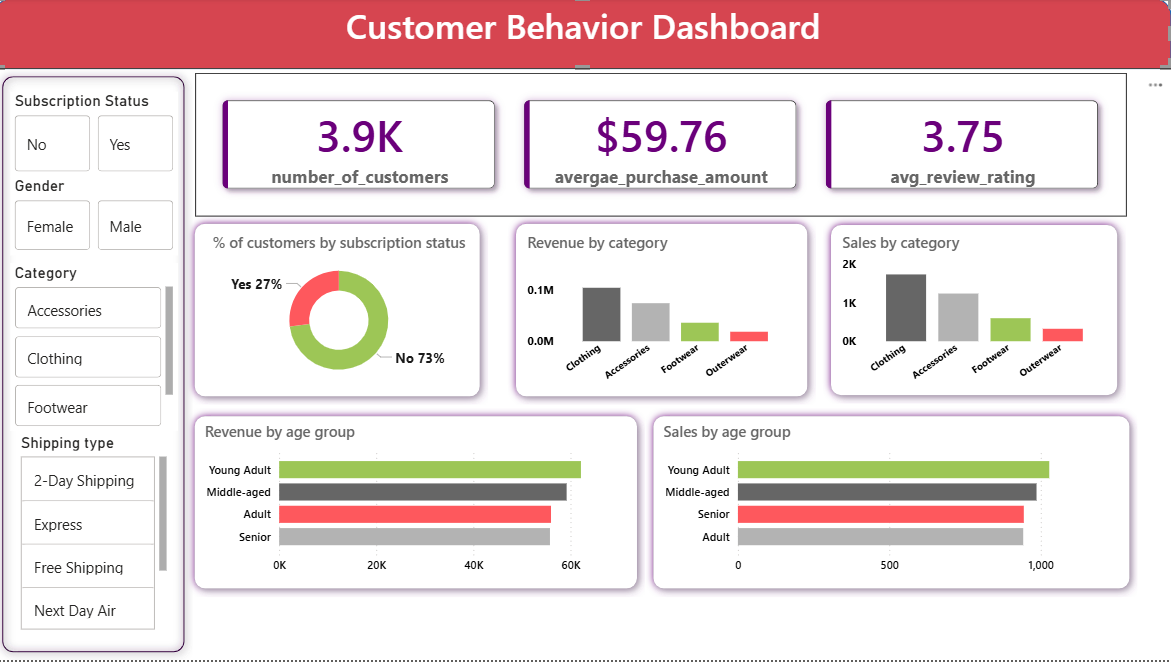

This screenshot's page, from the dashboard's own definition file:
{"tool":"powerbi","page":{"name":"Page 1","canvas":[1280,720],"ordinal":0},"visuals":[{"type":"cardVisual","fields":{"Data":["customer_behavior customer.number_of_customers","customer_behavior customer.avergae_purchase_amount","customer_behavior customer.avg_review_rating"]},"box":[218.8,81.5,1012.5,156.3],"z":0},{"type":"shape","box":[0,0,1280.3,77.5],"z":1000},{"type":"textbox","box":[146.8,0,988,101.5],"z":2000},{"type":"shape","box":[209.9,236.4,328,205.8],"z":3000},{"type":"donutChart","title":"% of customers by  subscription status","fields":{"Category":["customer_behavior customer.subscription_status"],"Y":["CountNonNull(customer_behavior customer.customer_id)"]},"box":[232.4,254.2,285.4,171.2],"z":4000},{"type":"shape","box":[558.5,236.4,334.8,205.8],"z":5000},{"type":"shape","box":[901.5,237.8,329.3,203.1],"z":6000},{"type":"clusteredColumnChart","title":"Revenue by category","fields":{"Y":["Sum(customer_behavior customer.purchase_amount)"],"Category":["customer_behavior customer.category"]},"box":[574.9,254.2,294.9,171.2],"z":7000},{"type":"clusteredColumnChart","title":"Sales by category","fields":{"Y":["CountNonNull(customer_behavior customer.customer_id)"],"Category":["customer_behavior customer.category"]},"box":[917.4,254.2,296.3,171.2],"z":8000},{"type":"shape","box":[0,76.1,216.1,644.2],"z":9000},{"type":"advancedSlicerVisual","fields":{"Values":["customer_behavior customer.subscription_status"]},"box":[17.7,101.9,182.1,92.4],"z":10000},{"type":"advancedSlicerVisual","fields":{"Values":["customer_behavior customer.gender"]},"box":[17.7,194.4,182.1,85.6],"z":11000},{"type":"advancedSlicerVisual","fields":{"Values":["customer_behavior customer.category"]},"box":[17.7,288.1,182.1,182.1],"z":12000},{"type":"advancedSlicerVisual","fields":{"Values":["customer_behavior customer.shipping_type"]},"box":[24.5,473,168.5,218.8],"z":13000},{"type":"shape","box":[209.3,445.8,498.8,205.2],"z":15000},{"type":"clusteredBarChart","title":"Revenue by age group","fields":{"Y":["Sum(customer_behavior customer.purchase_amount)"],"Category":["customer_behavior customer.age_group"]},"box":[224.3,459.4,471.6,175.3],"z":16000},{"type":"shape","box":[708.1,445.8,535.5,205.2],"z":17000},{"type":"clusteredBarChart","title":"Sales by age group","fields":{"Y":["CountNonNull(customer_behavior customer.customer_id)"],"Category":["customer_behavior customer.age_group"]},"box":[723,459.4,500.2,175.3],"z":18000}]}

Visuals, with their boxes in screenshot pixels (x1, y1, x2, y2), scaled from the page's 1280x720 canvas onto the 1171x667 screenshot:
cardVisual - customer_behavior customer.number_of_customers x customer_behavior customer.avergae_purchase_amount: {"x1": 200, "y1": 76, "x2": 1126, "y2": 220}
shape: {"x1": 0, "y1": 0, "x2": 1170, "y2": 72}
textbox: {"x1": 134, "y1": 0, "x2": 1038, "y2": 94}
shape: {"x1": 192, "y1": 219, "x2": 492, "y2": 410}
"% of customers by  subscription status" donutChart: {"x1": 213, "y1": 235, "x2": 474, "y2": 394}
shape: {"x1": 511, "y1": 219, "x2": 817, "y2": 410}
shape: {"x1": 825, "y1": 220, "x2": 1126, "y2": 408}
"Revenue by category" clusteredColumnChart: {"x1": 526, "y1": 235, "x2": 796, "y2": 394}
"Sales by category" clusteredColumnChart: {"x1": 839, "y1": 235, "x2": 1110, "y2": 394}
shape: {"x1": 0, "y1": 70, "x2": 198, "y2": 666}
advancedSlicerVisual - customer_behavior customer.subscription_status: {"x1": 16, "y1": 94, "x2": 183, "y2": 180}
advancedSlicerVisual - customer_behavior customer.gender: {"x1": 16, "y1": 180, "x2": 183, "y2": 259}
advancedSlicerVisual - customer_behavior customer.category: {"x1": 16, "y1": 267, "x2": 183, "y2": 436}
advancedSlicerVisual - customer_behavior customer.shipping_type: {"x1": 22, "y1": 438, "x2": 177, "y2": 641}
shape: {"x1": 191, "y1": 413, "x2": 648, "y2": 603}
"Revenue by age group" clusteredBarChart: {"x1": 205, "y1": 426, "x2": 637, "y2": 588}
shape: {"x1": 648, "y1": 413, "x2": 1138, "y2": 603}
"Sales by age group" clusteredBarChart: {"x1": 661, "y1": 426, "x2": 1119, "y2": 588}
